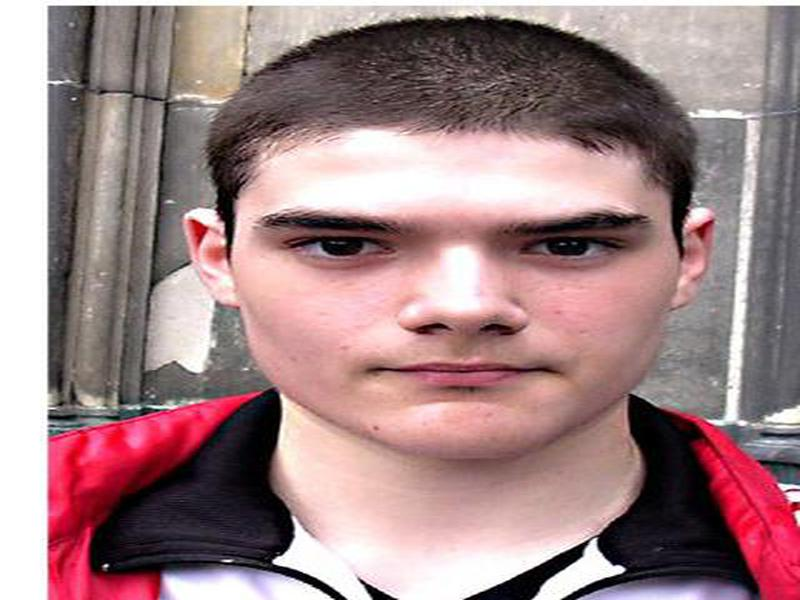without_mask: (225, 125, 672, 461)
